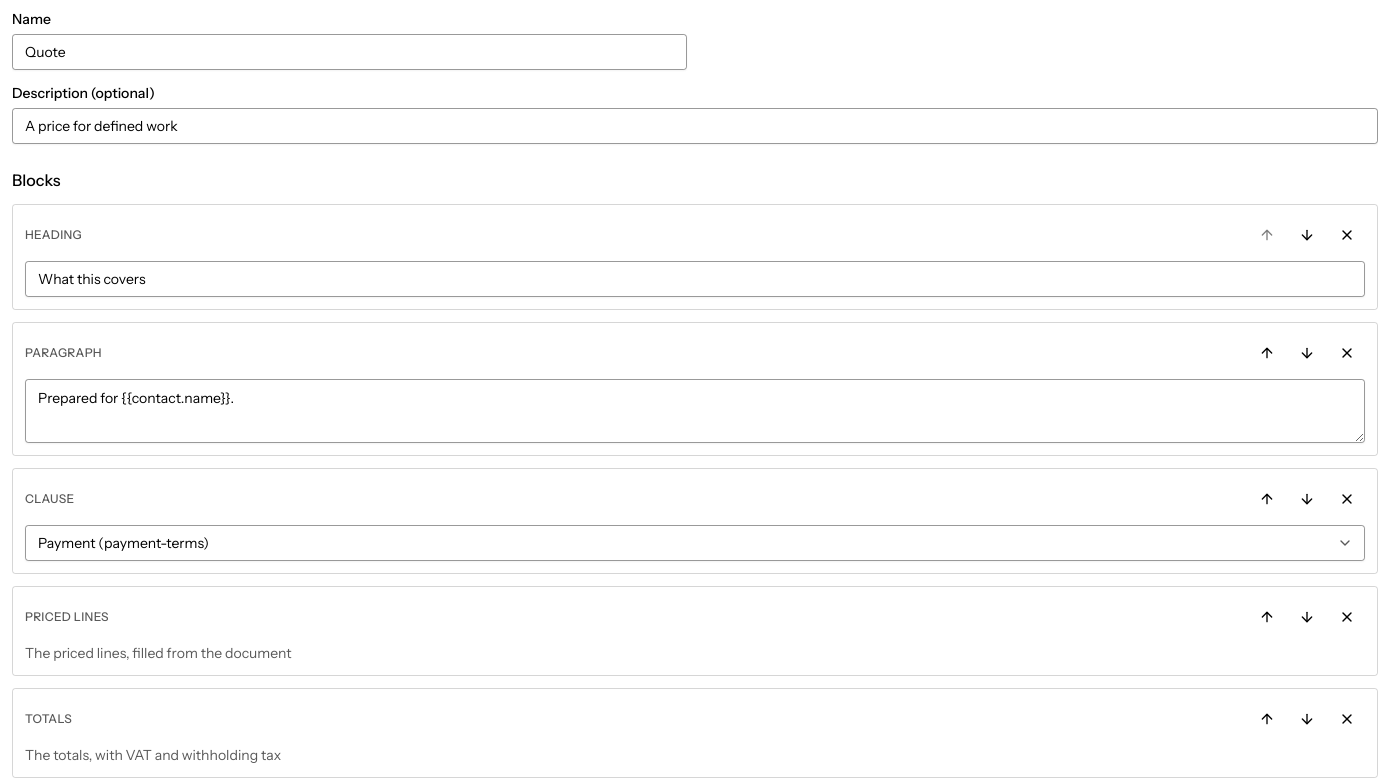
TemplateEditor › says a priced template needs its totals before it can be saved
Check: the text "needs a totals block" is not shown
Click the button named "Remove block 5" at (1347, 719), box 1329,701 -> 1365,737
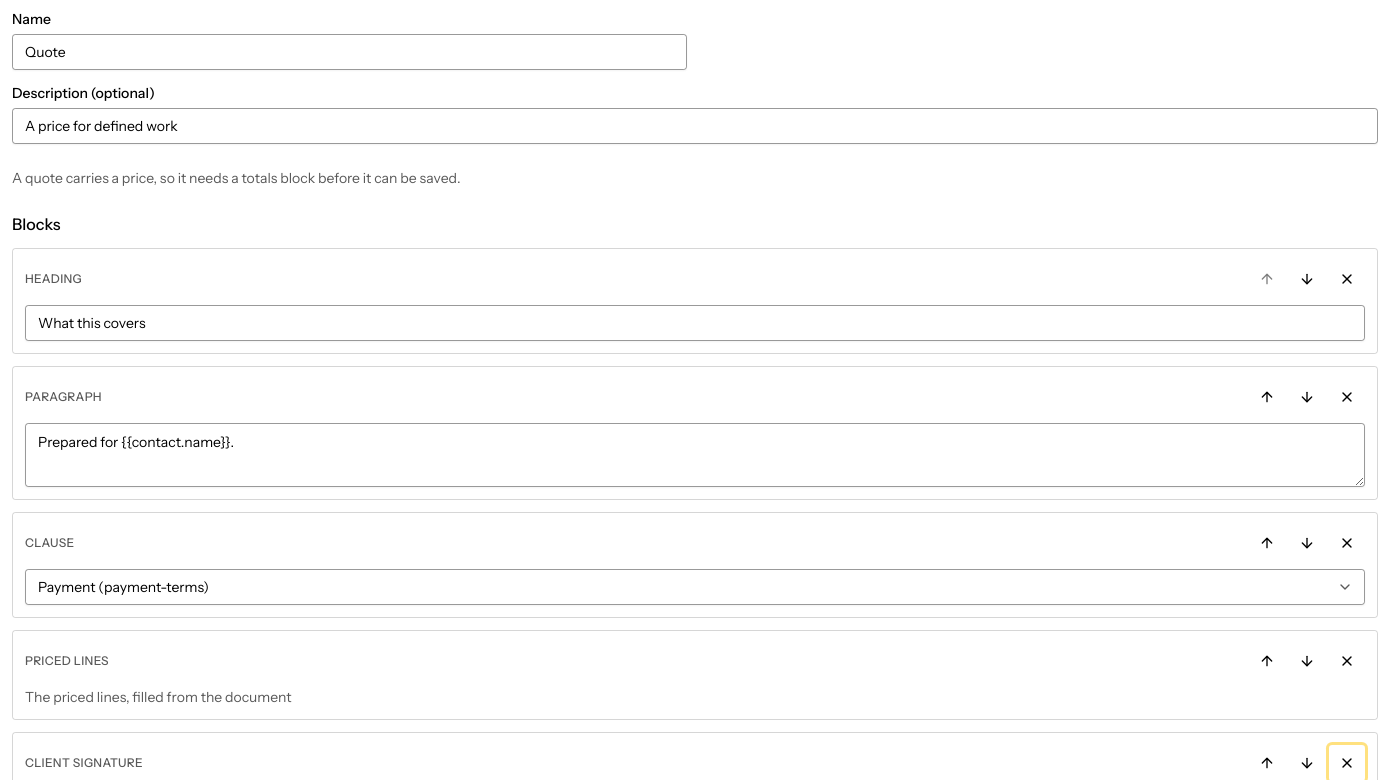
Check: the text "needs a totals block" is shown, box 63,169 -> 461,187
